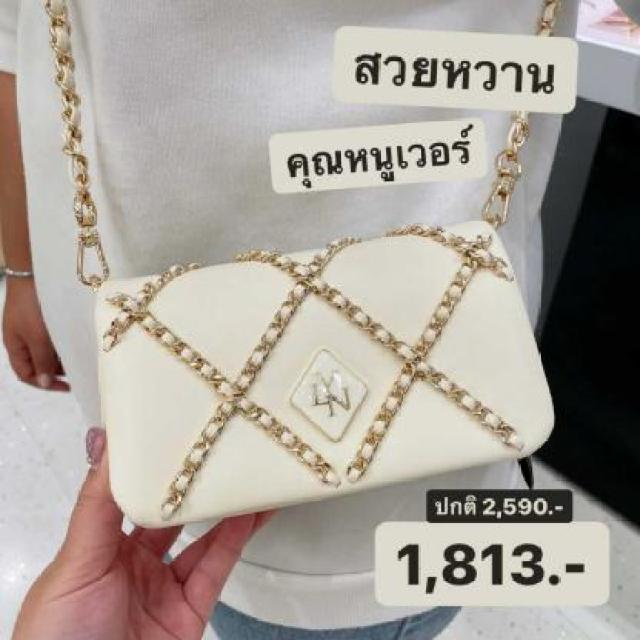Bag: (68, 213, 569, 582)
